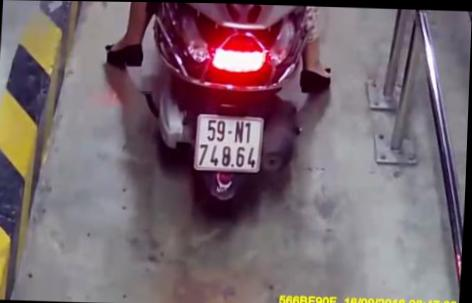LP: (194, 111, 264, 172)
